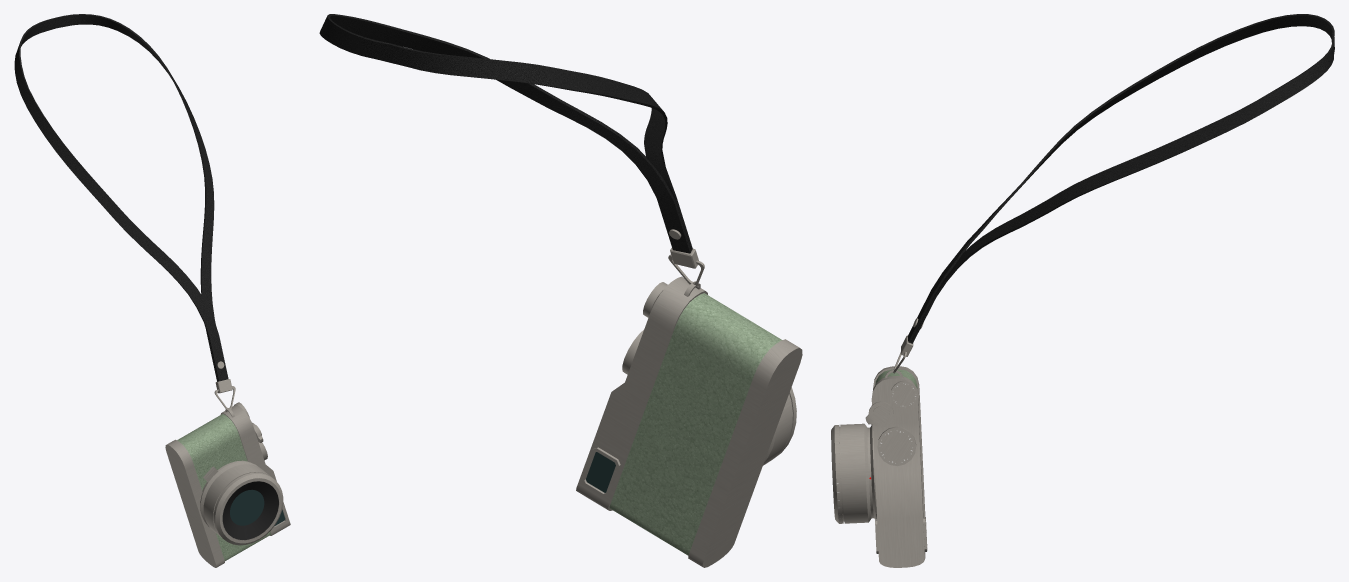
Rendered from camera-green.glb.
The picture shows the model from 3 angles, left to right: view 1: azimuth 30°, elevation 25°; view 2: azimuth 150°, elevation 25°; view 3: azimuth 270°, elevation 25°; orthographic projection. The views are drawn at different scales.
Visible parts, largest first — view 1: Camera_body, CameraStrap; view 2: Camera_body, CameraStrap; view 3: Camera_body, CameraStrap.
Part boxes in pixels (bbox=[...]): Camera_body: bbox=[165, 402, 290, 567]; CameraStrap: bbox=[14, 14, 235, 410]; Camera_body: bbox=[576, 276, 802, 567]; CameraStrap: bbox=[319, 14, 704, 286]; Camera_body: bbox=[831, 366, 927, 567]; CameraStrap: bbox=[893, 14, 1334, 373].
Size of the model in its own units: 0.1255 by 0.3488 by 0.3011.
Materials: 3 (2 with a texture image).
